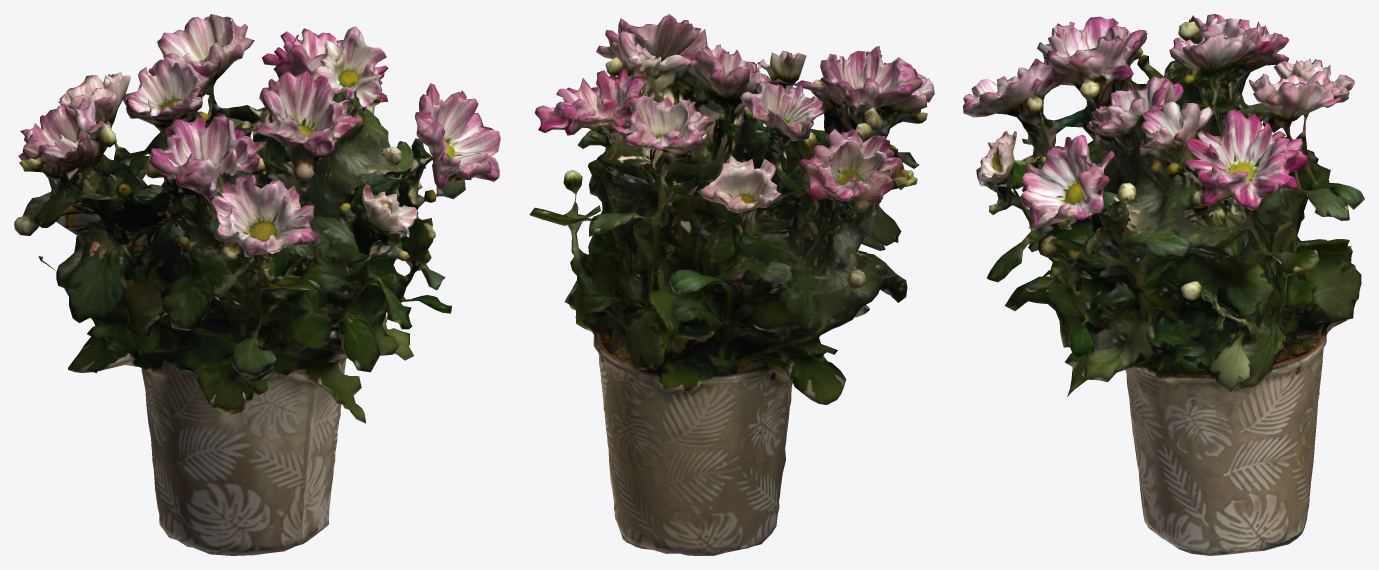
Rendered from hrysanthemum.glb.
3 renders of one model, left to right at view 1: azimuth 30°, elevation 25°; view 2: azimuth 150°, elevation 25°; view 3: azimuth 270°, elevation 25°, orthographic. The views are drawn at different scales.
Parts seen in each view (by area): view 1: ObjectCapture; view 2: ObjectCapture; view 3: ObjectCapture.
Boxes of the visible parts, bbox=[...] form: ObjectCapture: bbox=[14, 14, 500, 555]; ObjectCapture: bbox=[529, 14, 934, 555]; ObjectCapture: bbox=[963, 14, 1364, 555].
Bounding box in the file's own units: 0.2927 × 0.3401 × 0.2646.
Materials: 1 (1 with a texture image).
